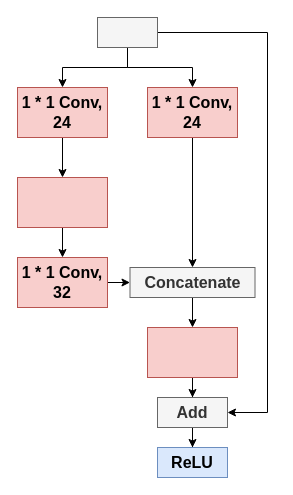
Some shapes in this 293 by 495 pixel diagram are drawn without their labels. The shapes that lost their labels are listed below. From the top down, each one's centre as x and y in pixels, then its label:
At [127,32]: "Input".
At [62,202]: "1 * 1 Conv, 28".
At [192,352]: "1 * 1Con, 256".
